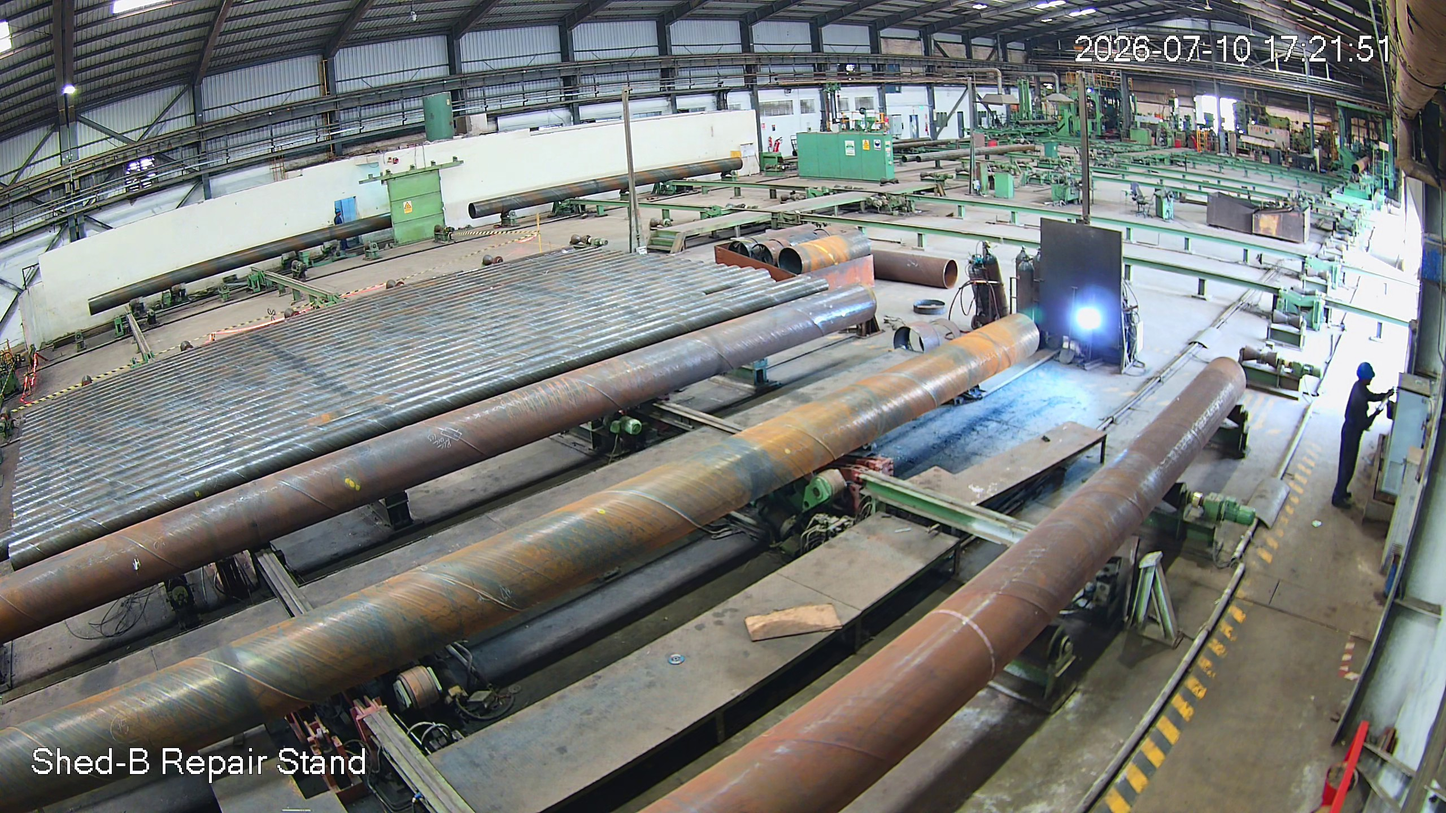Helmet: (1351, 360, 1388, 404)
Person: (1327, 364, 1393, 510)
